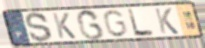G: (75, 8, 106, 41), (102, 9, 129, 38)
K: (51, 12, 78, 40), (153, 7, 180, 35)
L: (126, 8, 156, 38)
S: (24, 11, 54, 43)
